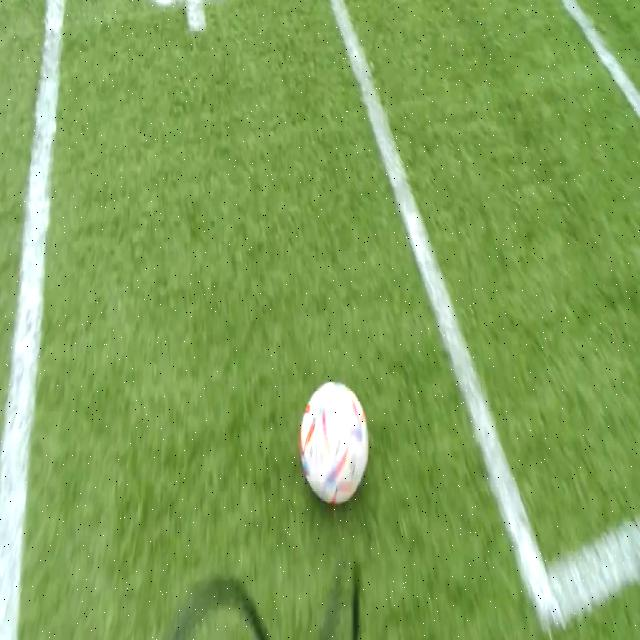ball: (300, 382, 368, 504)
